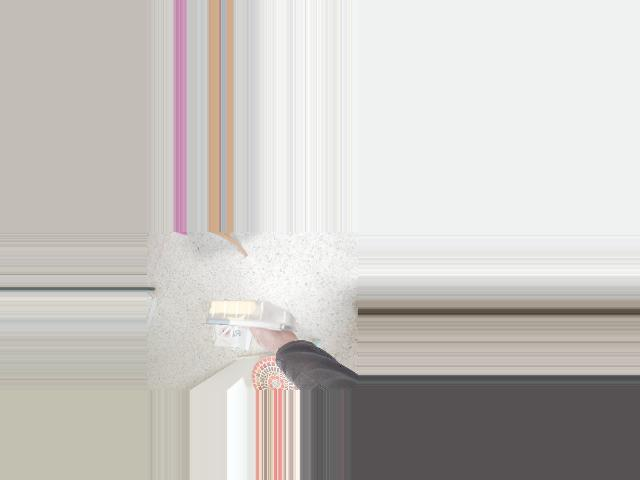cheese: (204, 289, 290, 348)
